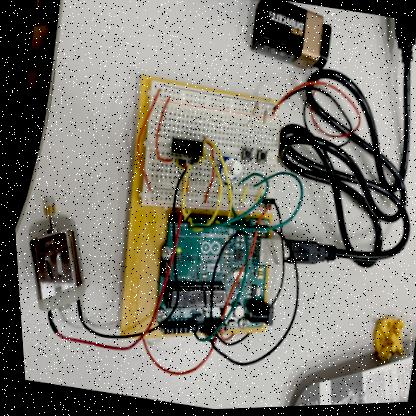5V: (213, 207, 268, 335), (133, 338, 215, 383), (213, 336, 232, 346)
ARDUINO: (148, 212, 265, 333)
Battery: (238, 0, 366, 154)
Breadboard: (137, 79, 278, 218)
Button: (253, 150, 265, 165), (238, 148, 250, 163)
DC Motor: (18, 154, 198, 357)
GND: (196, 231, 301, 371), (200, 219, 282, 350)
H Bridge: (169, 138, 200, 157)
Long wire: (176, 182, 249, 353), (194, 173, 302, 236), (182, 167, 268, 234), (183, 151, 220, 237), (201, 139, 231, 228), (134, 89, 159, 192), (152, 96, 169, 163), (172, 164, 189, 220), (200, 138, 212, 204)
Potentiometer: (224, 162, 239, 177)
Resistor: (250, 102, 257, 117), (260, 109, 266, 126)
Short wire: (237, 186, 245, 204), (252, 187, 259, 205), (183, 178, 186, 194), (178, 179, 181, 195), (224, 188, 227, 204), (213, 186, 217, 197)
